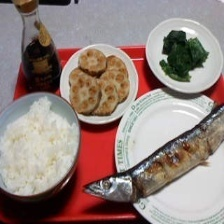rice: (0, 93, 79, 199)
